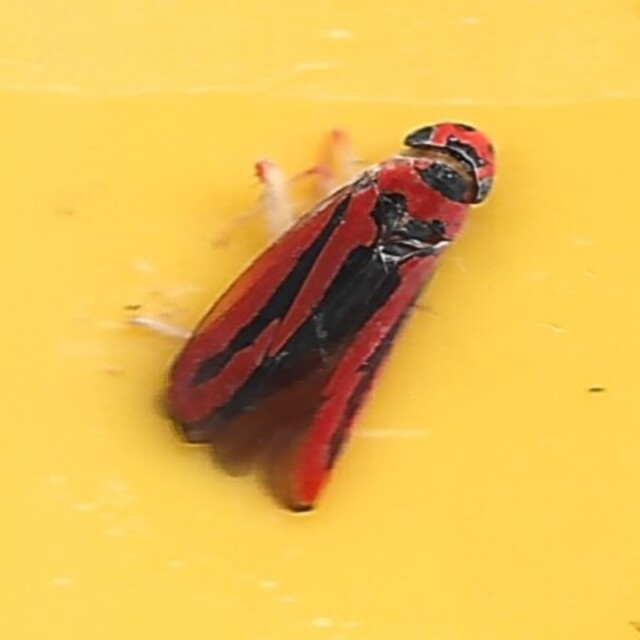Hemiptera: (140, 120, 500, 520)
